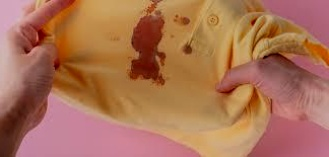blood: (129, 17, 163, 81)
